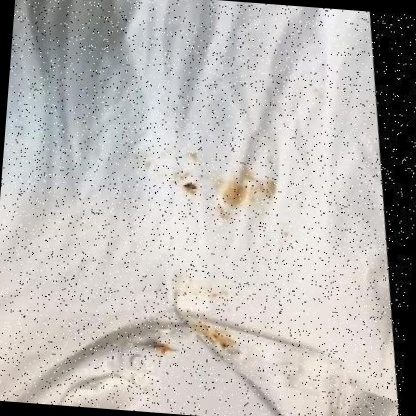coffee: (222, 183, 247, 208), (206, 331, 232, 346)
